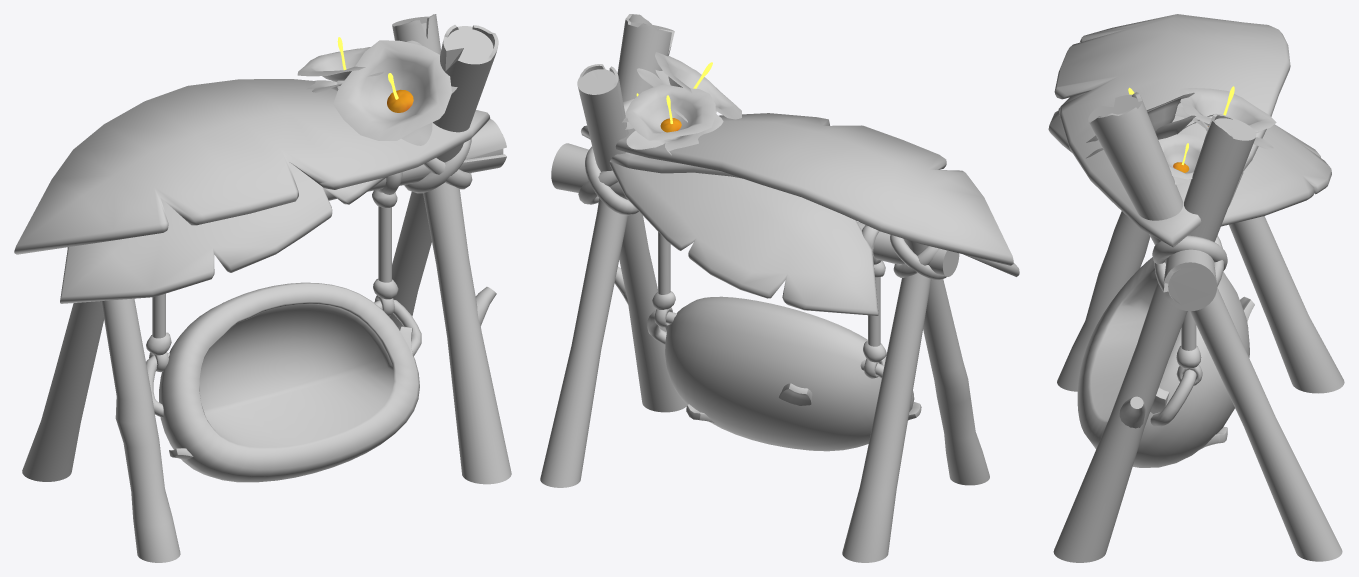
File: Swing.fbx
3 views of the same model, side by side, from view 1: azimuth 30°, elevation 25°; view 2: azimuth 150°, elevation 25°; view 3: azimuth 270°, elevation 25° (orthographic). The views are drawn at different scales.
Parts seen in each view (by area): view 1: coconut, leaf_1, wood_right, wood_left, leaf_2, Vine.002, wood_top, Vine.003, swing_middle_right, rope_top, swing_middle_left; view 2: coconut, leaf_1, leaf_3, wood_right, wood_left, Vine.003, rope_top, wood_top, Vine.002, leaf_2, swing_middle_left, swing_middle_right; view 3: wood_right, leaf_1, coconut, wood_left, leaf_3, wood_top, Vine.003, rope_top, Vine.004, Vine.002, swing_middle_right, leaf_2.
Part boxes in pixels (x1,y1,x2,y2): coconut: (146,282,421,482); leaf_1: (14,79,489,254); wood_right: (389,14,511,484); wood_left: (22,298,180,562); leaf_2: (60,161,386,303); Vine.002: (333,40,457,145); wood_top: (67,119,506,247); Vine.003: (297,37,383,92); swing_middle_right: (372,190,398,299); rope_top: (404,138,472,193); swing_middle_left: (146,293,171,355); coconut: (647,296,921,451); leaf_1: (581,113,1013,265); leaf_3: (609,152,878,315); wood_right: (540,14,686,487); wood_left: (842,238,989,562); Vine.003: (625,84,723,155); rope_top: (578,146,946,280); wood_top: (551,143,959,276); Vine.002: (637,52,741,122); leaf_2: (610,153,1019,276); swing_middle_left: (863,260,886,362); swing_middle_right: (652,232,675,309); wood_right: (1053,92,1342,562); leaf_1: (1054,14,1290,247); coconut: (1077,257,1254,467); wood_left: (1057,211,1344,393); leaf_3: (1221,124,1331,226); wood_top: (1163,249,1217,311); Vine.003: (1175,86,1276,149); rope_top: (1152,235,1227,291); Vine.004: (1158,134,1203,184); Vine.002: (1086,87,1213,158); swing_middle_right: (1176,311,1201,368); leaf_2: (1048,92,1243,206).
Bounding box in the file's own units: 672 × 570 × 336.
